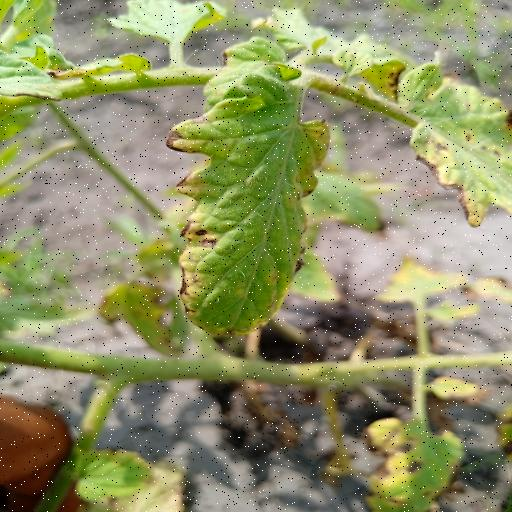Tomato_Brown_Spots: (165, 38, 334, 338), (350, 39, 512, 228)
